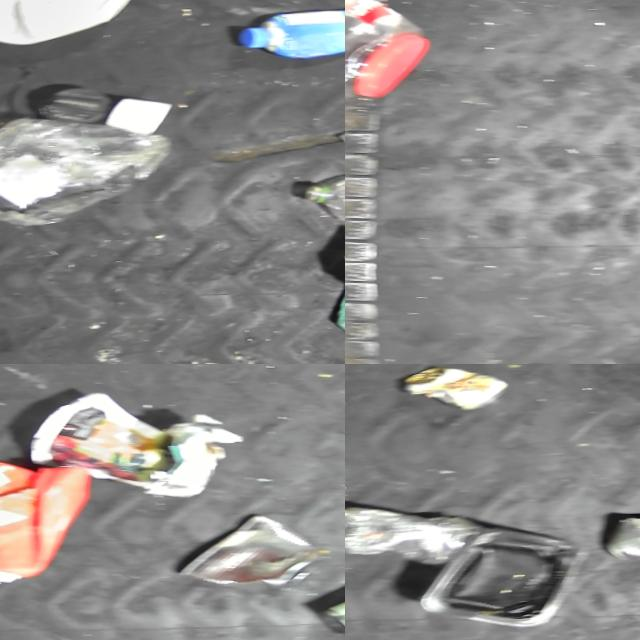can: (175, 514, 330, 594), (399, 365, 507, 414), (607, 513, 640, 571), (317, 576, 345, 640)
milk_jug: (0, 0, 131, 47)
non_white_jug: (0, 455, 92, 594)
plastic_bottle: (345, 503, 475, 570), (294, 171, 345, 250)
